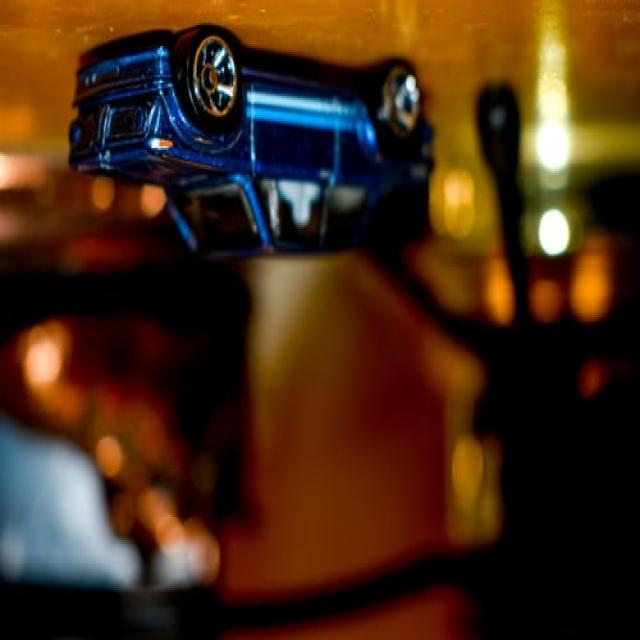Car: (68, 25, 435, 263)
